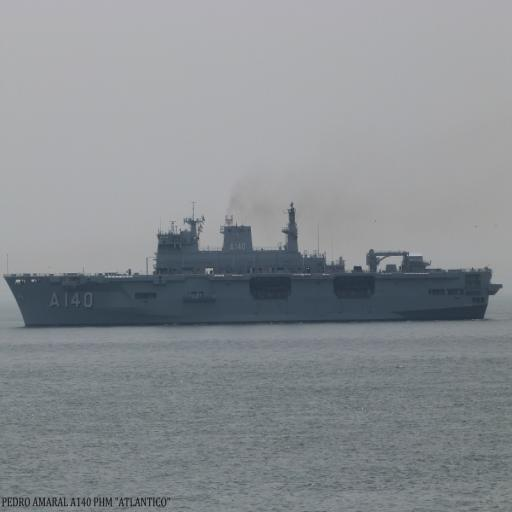Portanaves: (2, 199, 507, 330)
